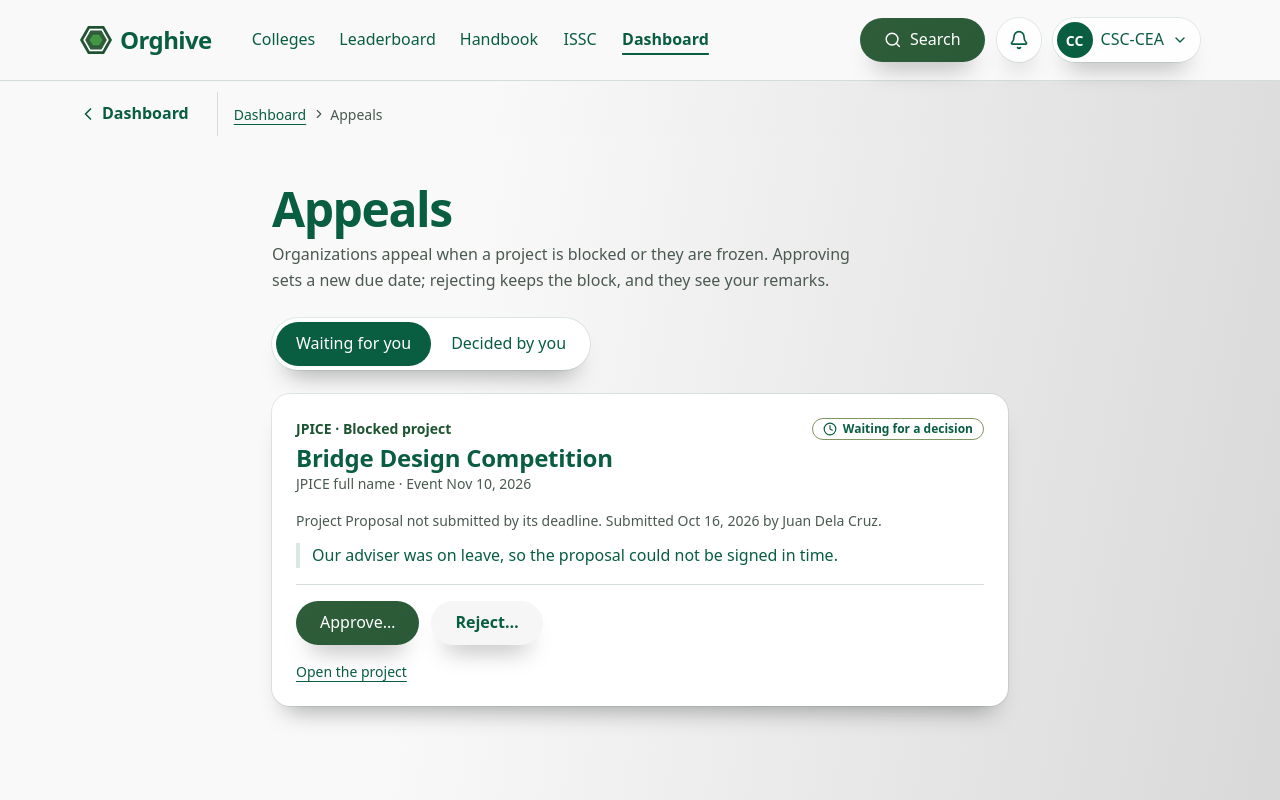
it: the appeals queue › rejecting needs remarks; a decision posts and empties the queue
Click the button "Reject…".
click(487, 623)  # box [431, 601, 543, 645]
(page scrolled)
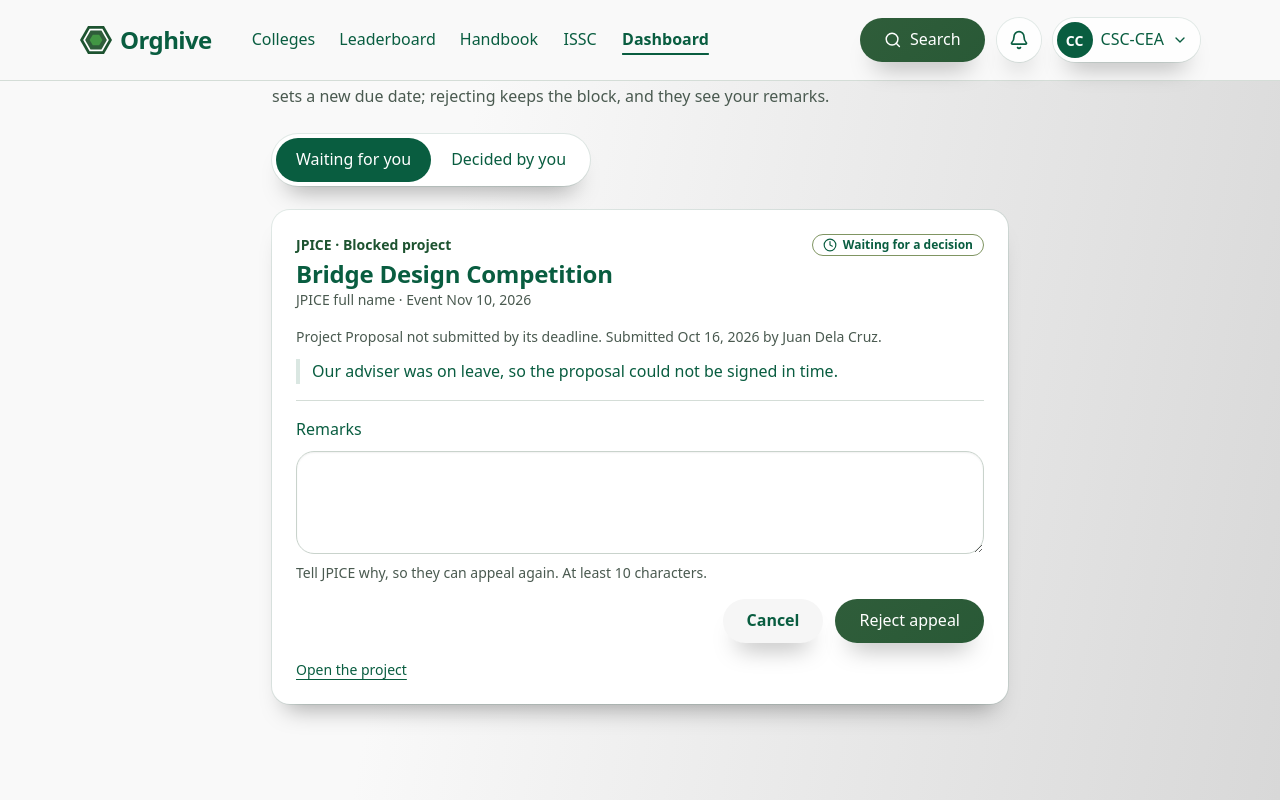
Click the button "Reject appeal".
click(910, 620)  # box [836, 598, 984, 642]
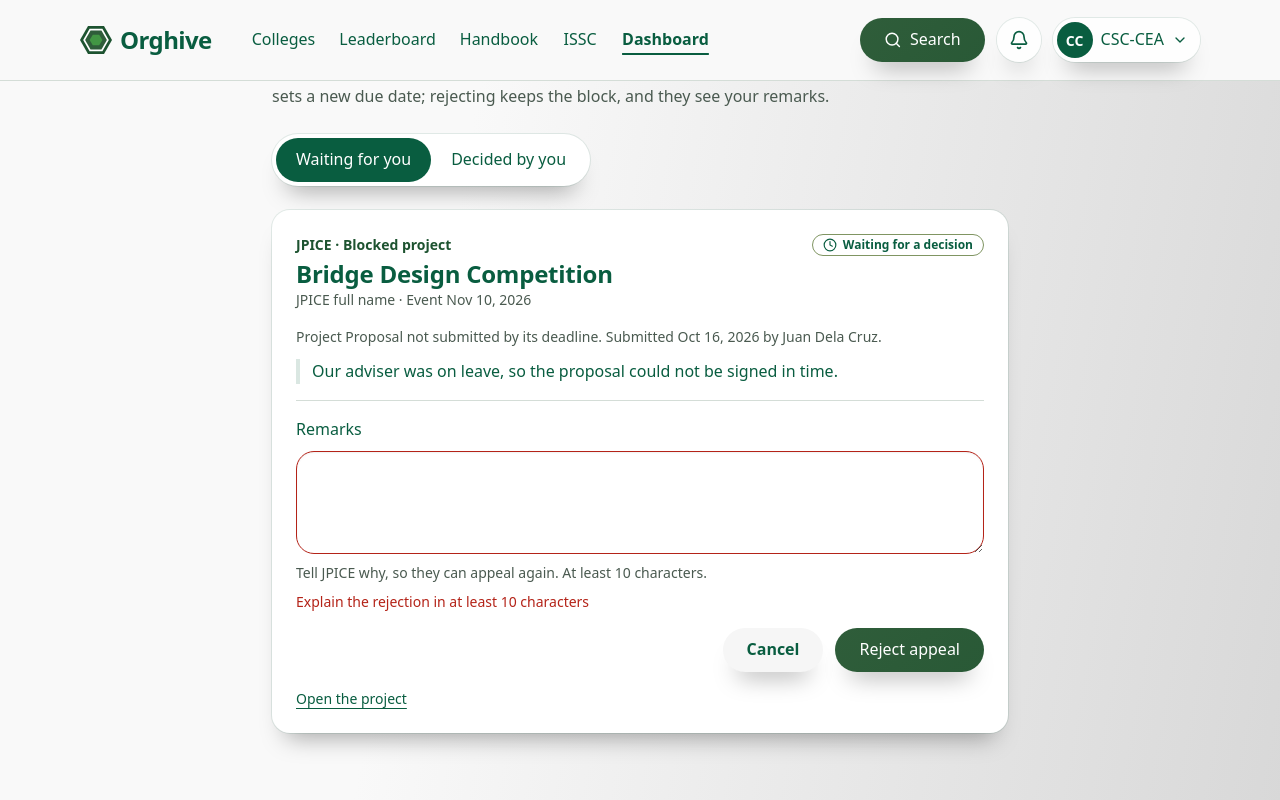
Now the text "Explain the rejection in at least 10 characters" is shown, box [296, 592, 589, 610]
Type "Attach the signed leave notice, please." into the text box labelled "Remarks".
click(640, 502); type("Attach the signed leave notice, please.")  # box [296, 451, 984, 554]
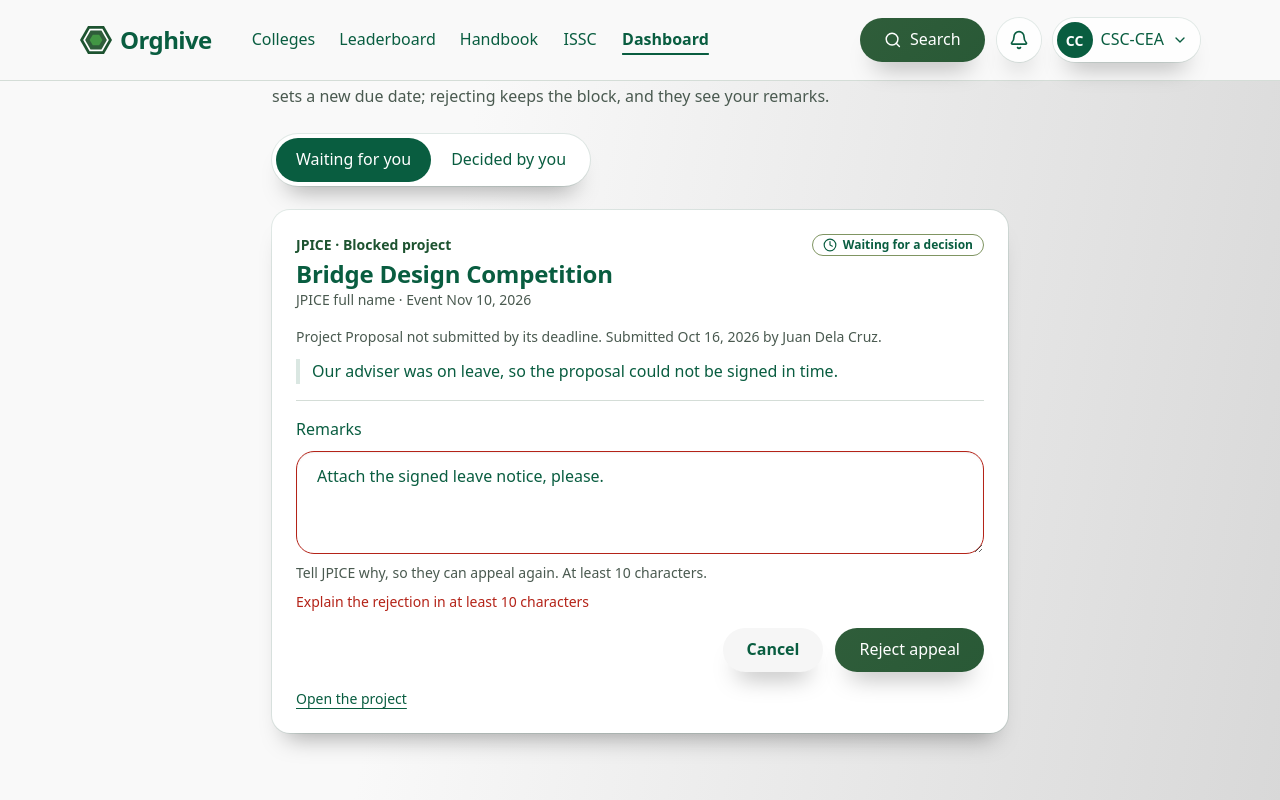
Click the button "Reject appeal".
click(910, 650)  # box [836, 628, 984, 672]
(page scrolled)
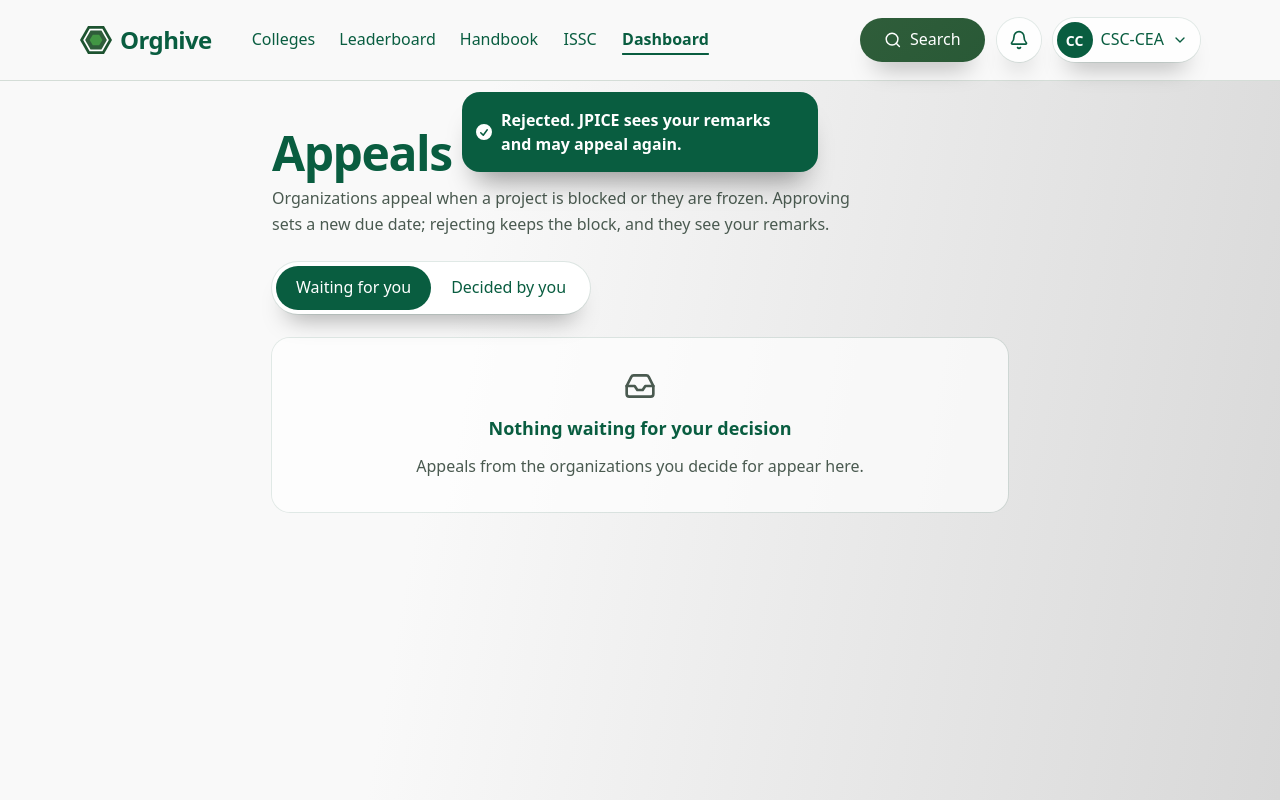
Now the text "Nothing waiting for your decision" is shown, box [488, 414, 792, 442]
